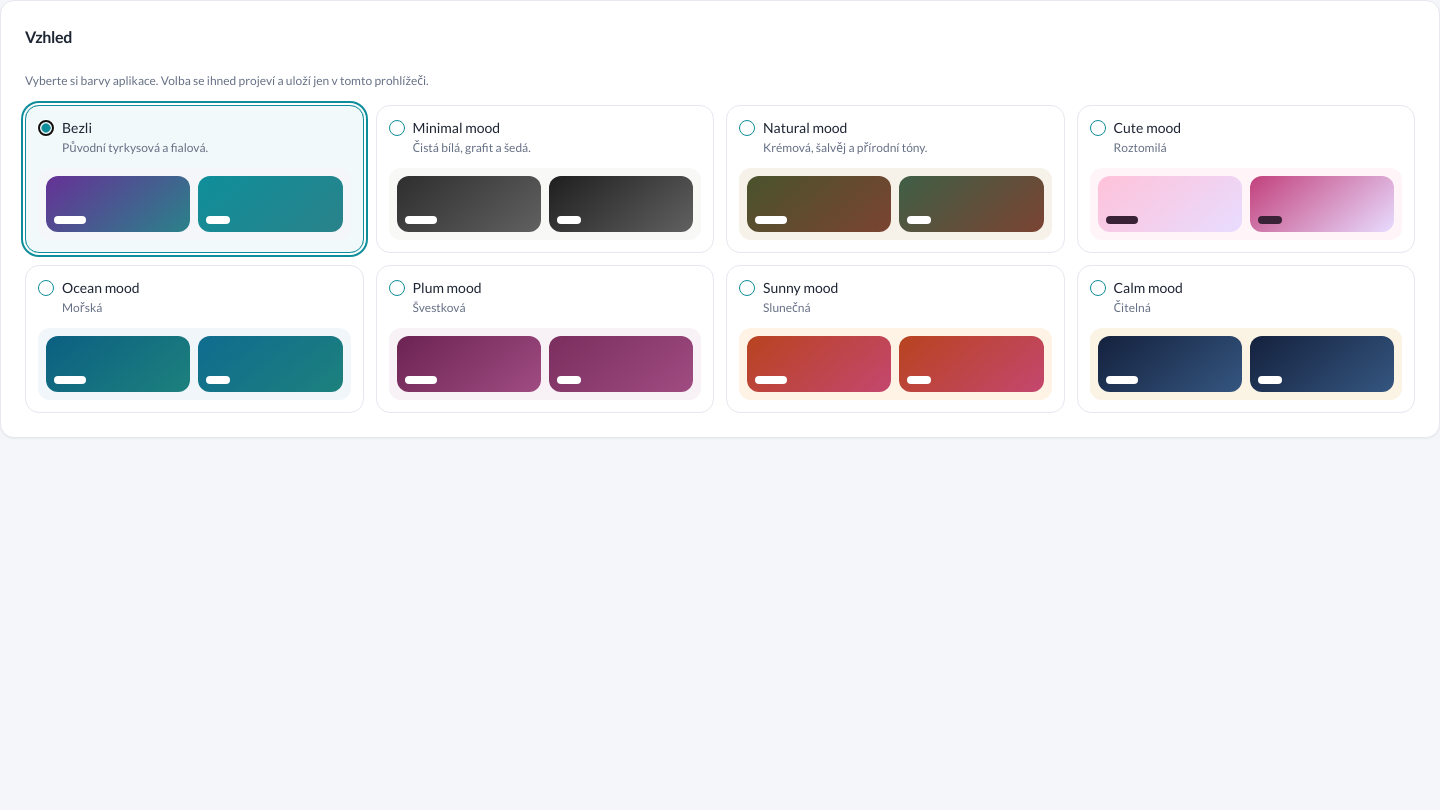
it: Vzhled profilu › radio skupina reaguje na klávesnici
Press ArrowDown in the radio button named "Bezli" next to "Bezli", box [38,120,54,136]
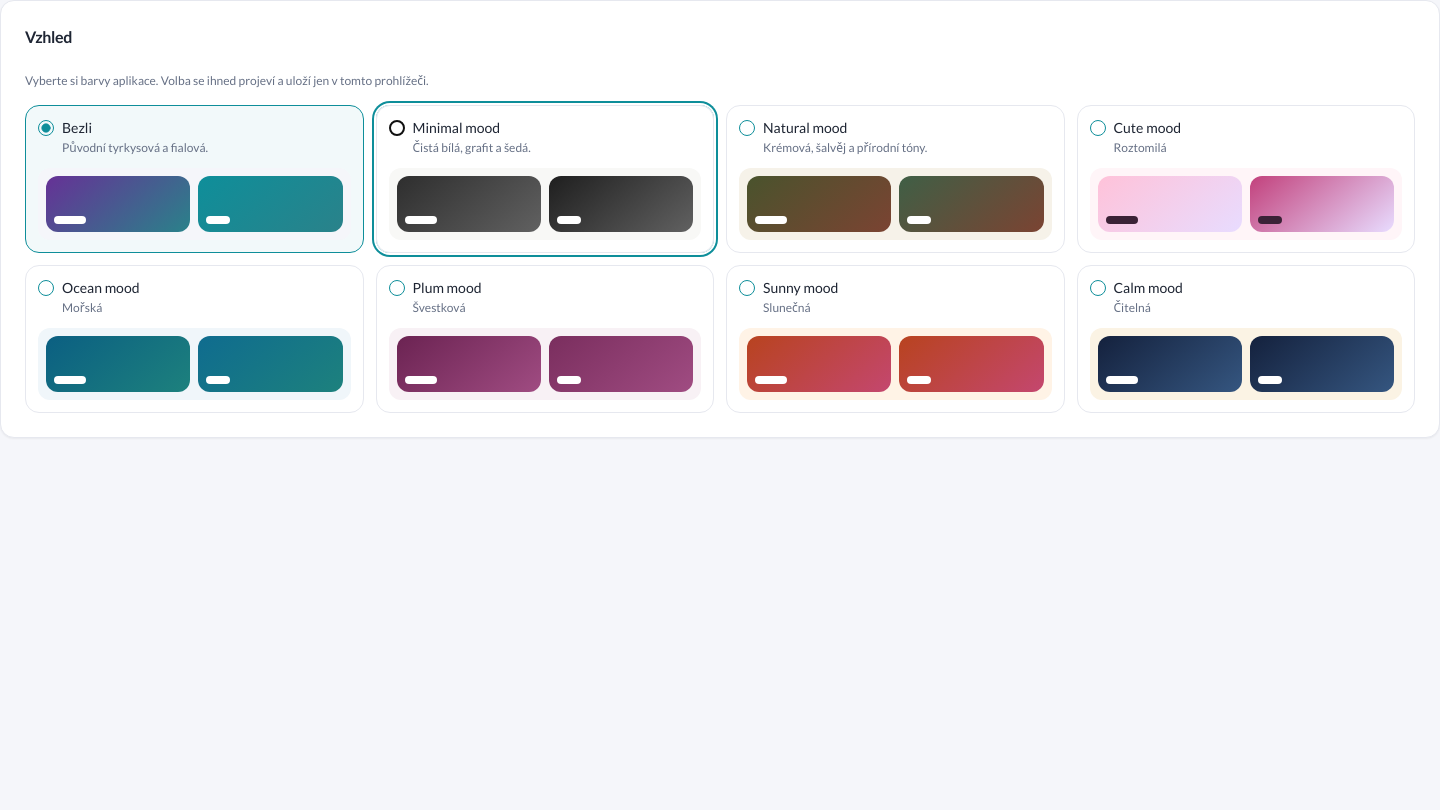
Click the radio button named "Minimal mood" next to "Minimal mood". click: (396, 128)
box: [388,120,404,136]
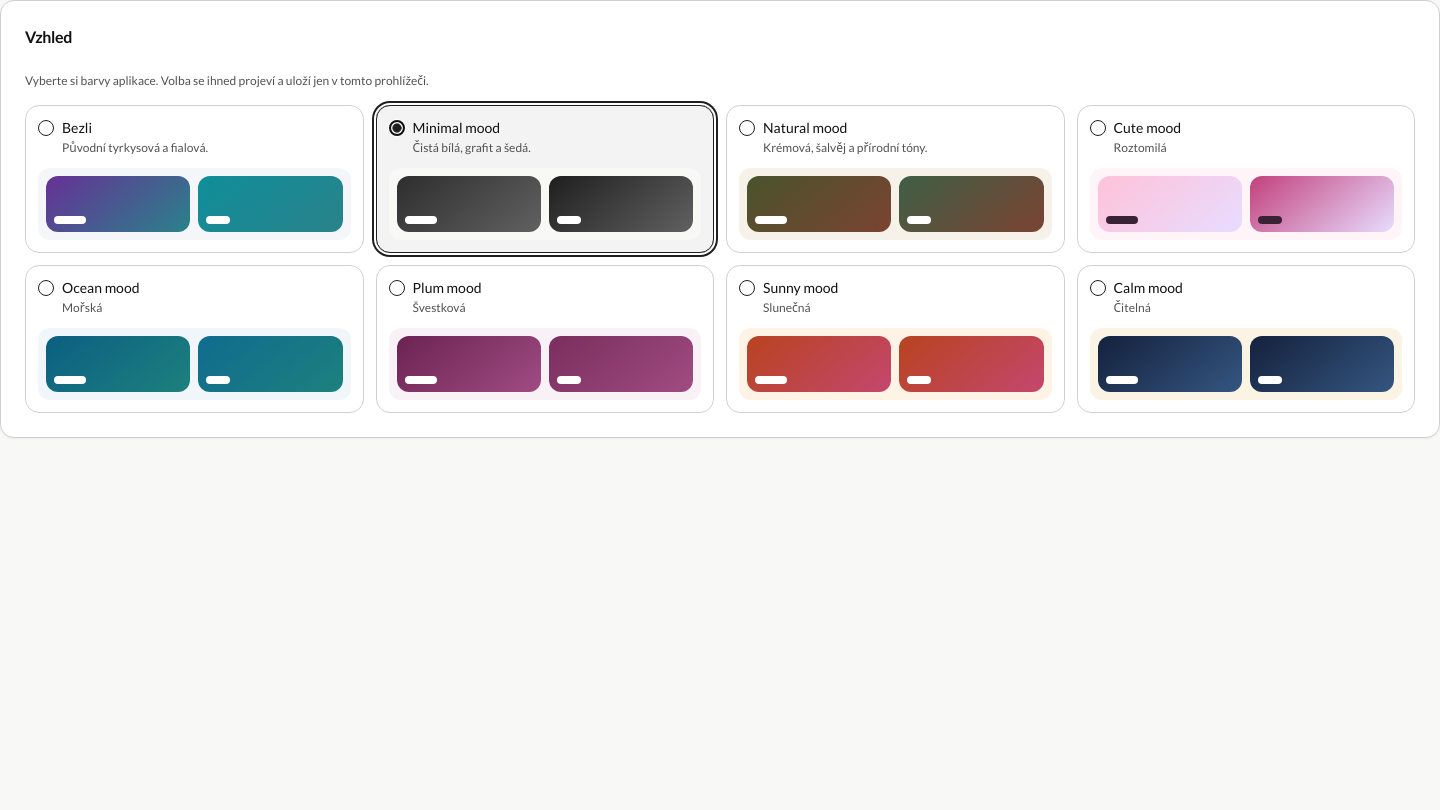
Press Space in the radio button named "Minimal mood" next to "Minimal mood", box [388,120,404,136]
Now the radio button named "Minimal mood" next to "Minimal mood" is checked, box [388,120,404,136]
